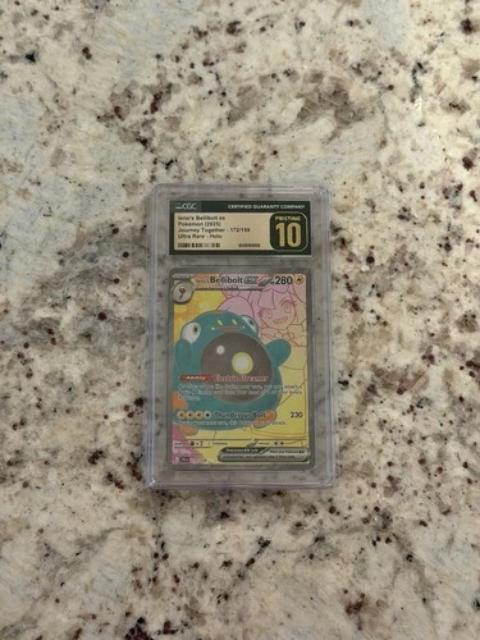Card: (163, 264, 318, 474)
Name: (191, 272, 263, 288)
